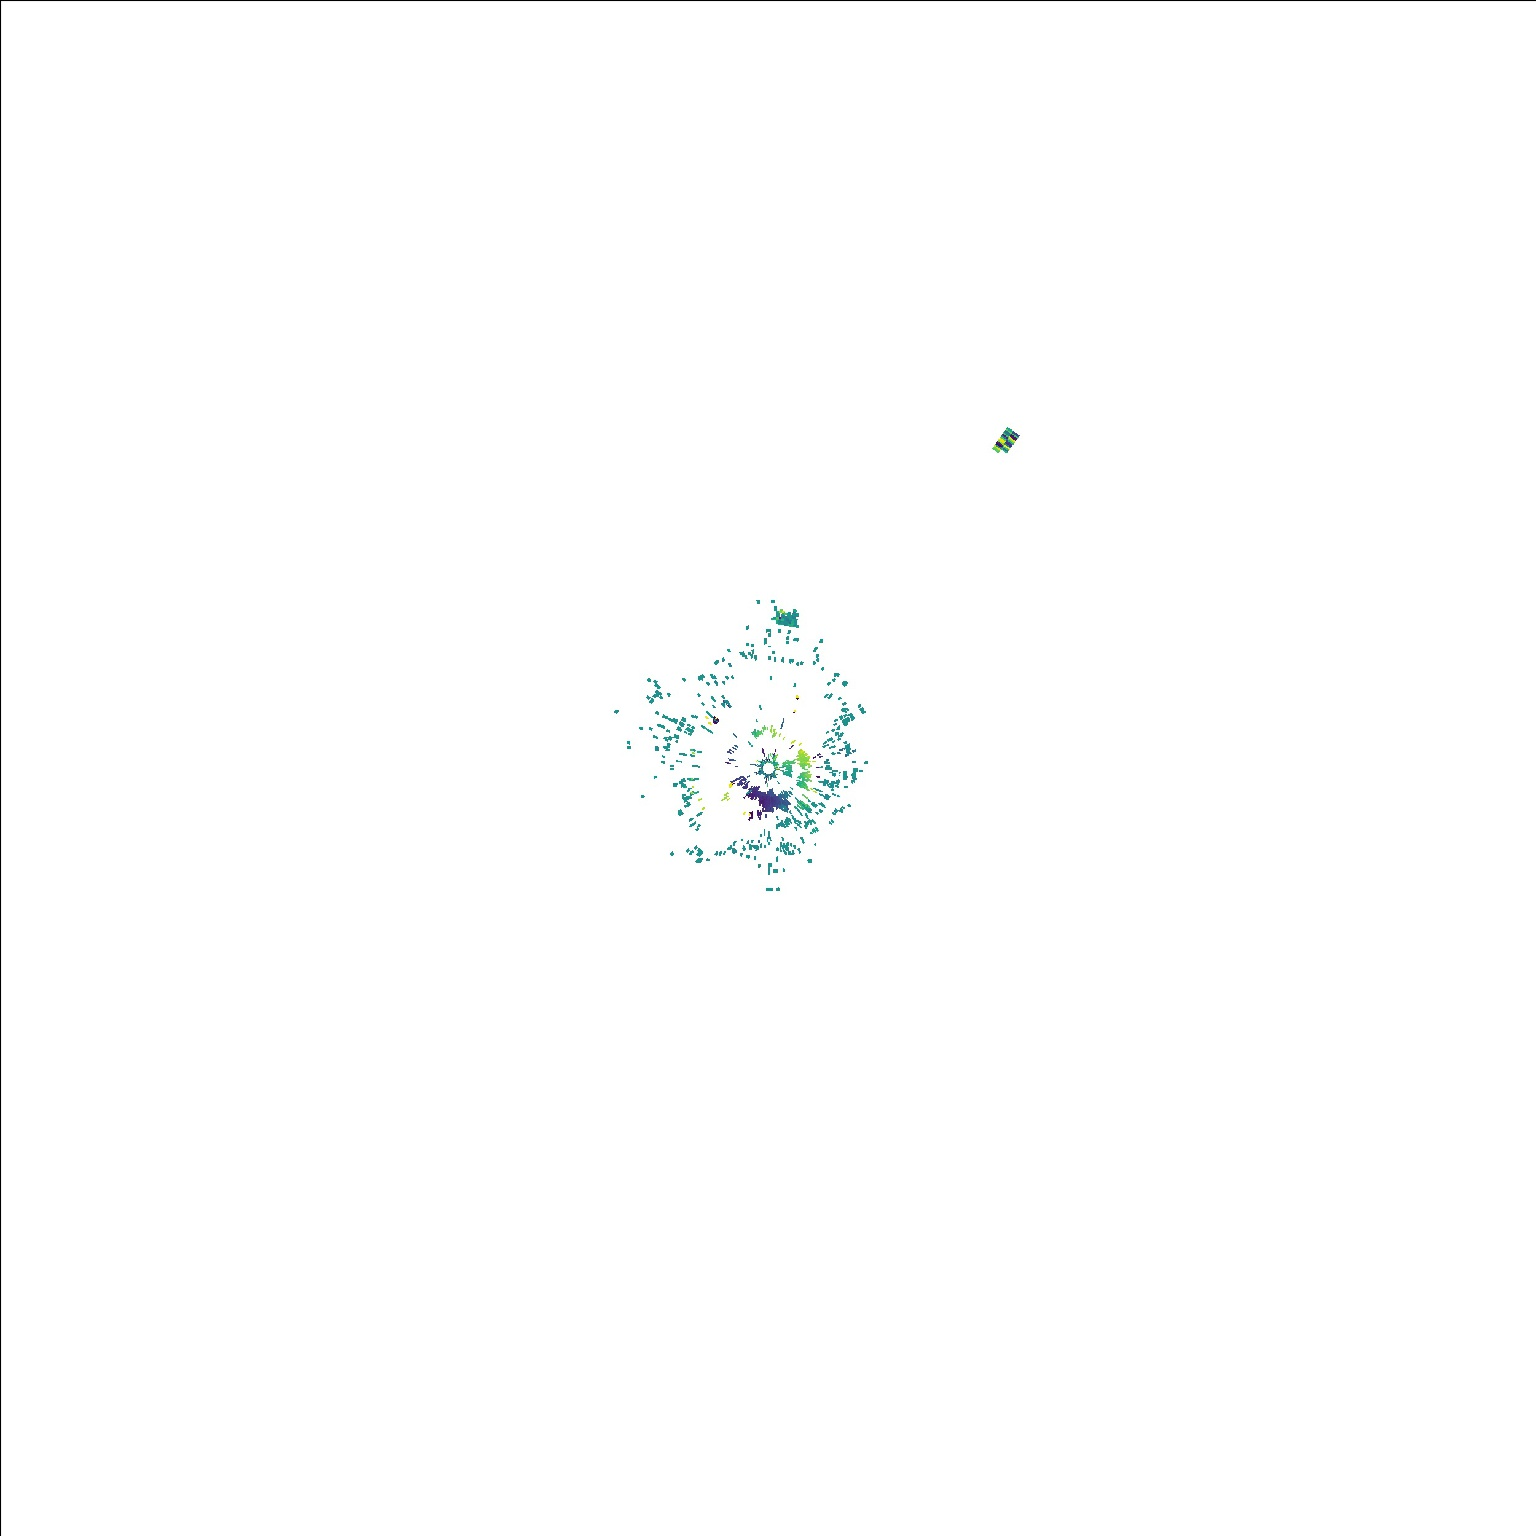fall: (985, 419, 1025, 460)
